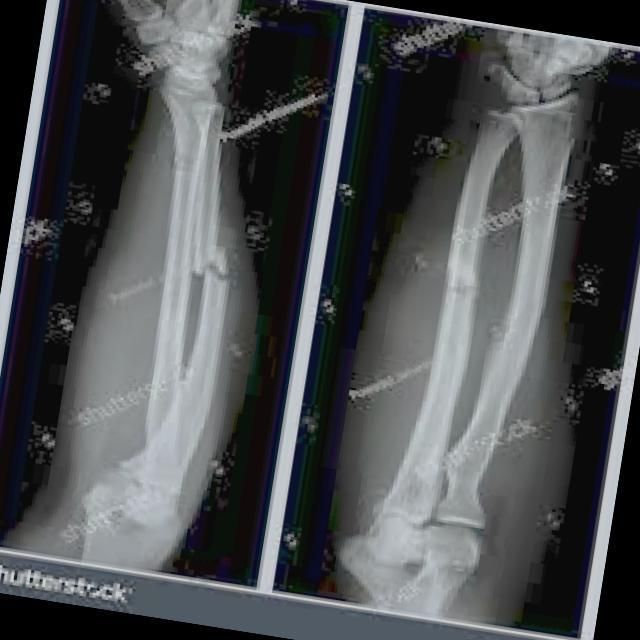Comminuted Fracture: (195, 245, 242, 300), (444, 259, 486, 315)
